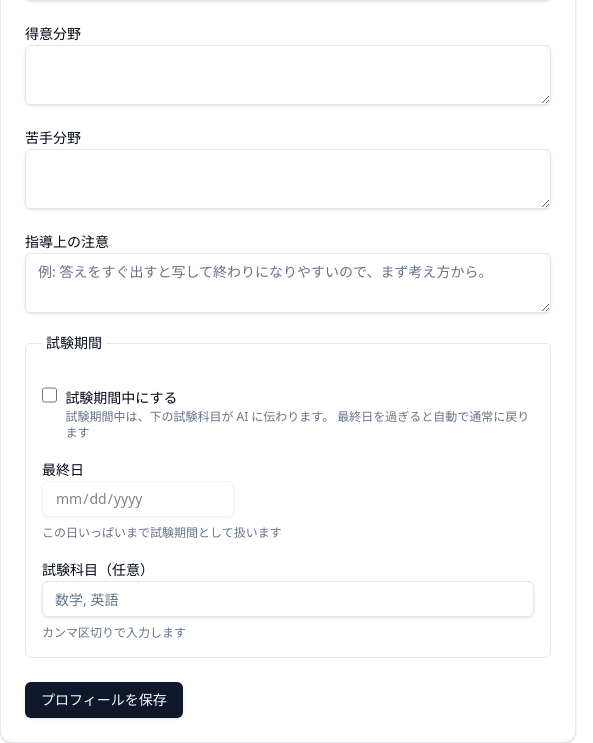
Test case: StudentProfileForm（初期値） › チェックを入れると最終日が編集可能になる
(page scrolled)
Click the checkbox labelled "試験期間中にする" at (50, 395), box x1=42 y1=387 x2=57 y2=403
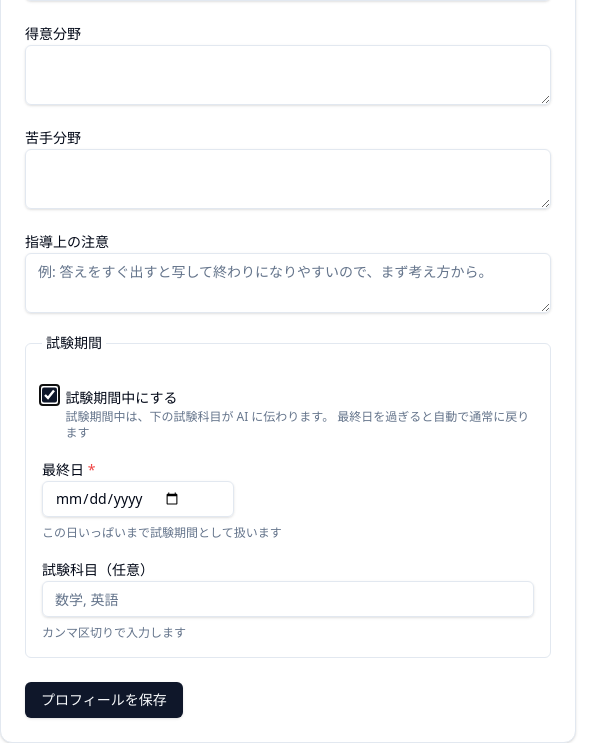
Check: the date field labelled "最終日 *" is enabled, box x1=42 y1=481 x2=234 y2=517
